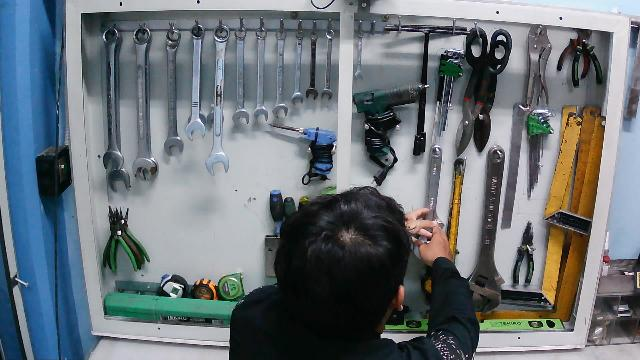kunci_inggris: (418, 143, 446, 253)
